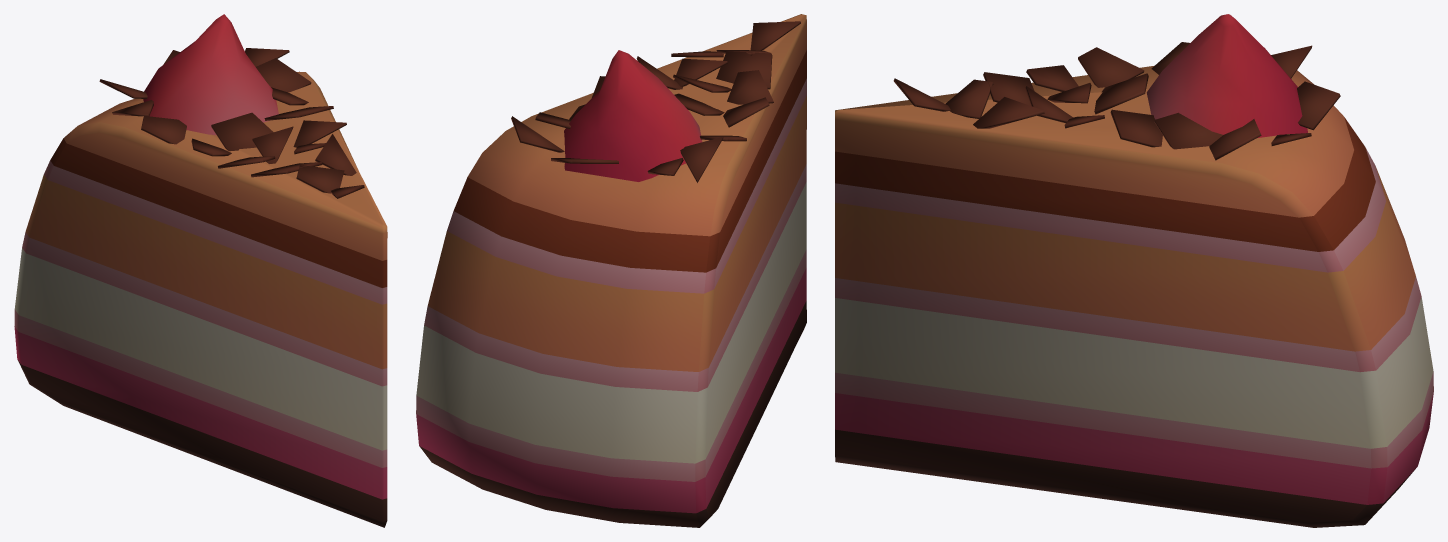
The model's file is Cheesecake_001.glb.
The picture shows the model from 3 angles, left to right: view 1: azimuth 30°, elevation 25°; view 2: azimuth 150°, elevation 25°; view 3: azimuth 270°, elevation 25°; orthographic projection. The views are drawn at different scales.
Visible parts, largest first — view 1: geometry_0; view 2: geometry_0; view 3: geometry_0.
Boxes of the visible parts, left/top/right/bottom form: geometry_0: left=14, top=14, right=387, bottom=527; geometry_0: left=416, top=14, right=806, bottom=527; geometry_0: left=835, top=14, right=1433, bottom=527.
Bounding box in the file's own units: 0.0878 × 0.1198 × 0.1436.
Materials: 1 (1 with a texture image).
